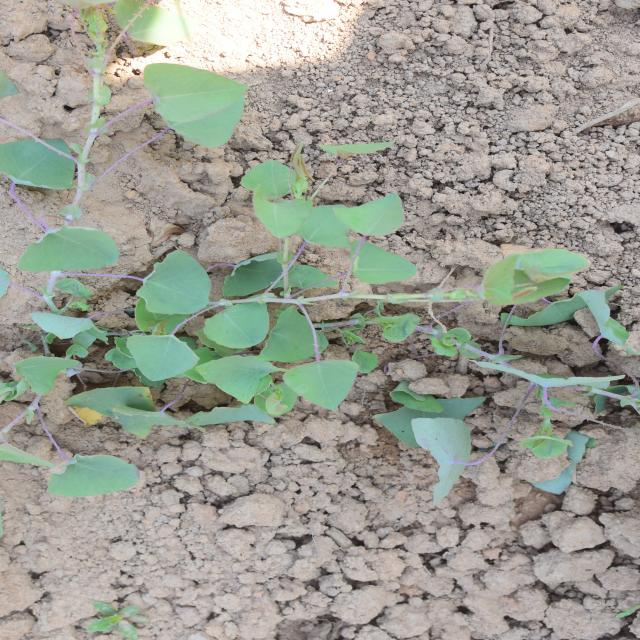Asiatic_Smartweed: (231, 104, 368, 350), (354, 230, 516, 414), (485, 117, 580, 267), (138, 22, 202, 147), (360, 29, 420, 132)
